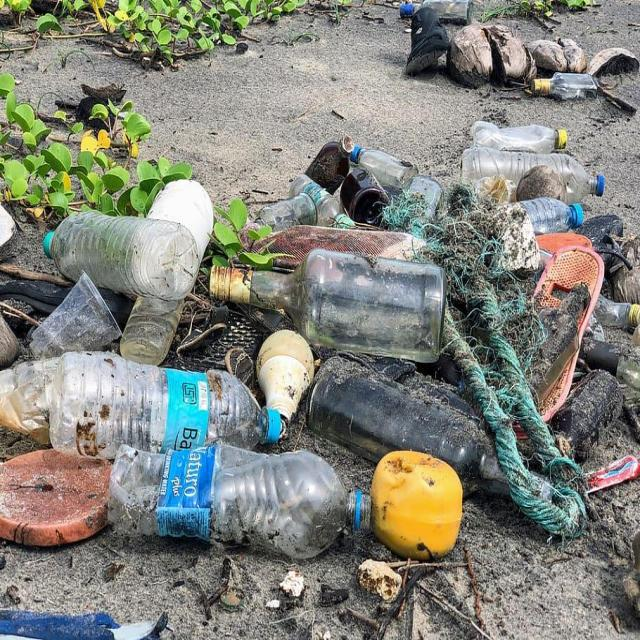bottle: (304, 361, 555, 524), (106, 445, 375, 565), (209, 246, 451, 366), (49, 359, 284, 458), (39, 194, 200, 314), (459, 147, 612, 197), (344, 135, 422, 198), (112, 297, 182, 367), (285, 164, 352, 229), (467, 114, 571, 148), (498, 198, 586, 236), (251, 194, 326, 228), (531, 72, 603, 100)
